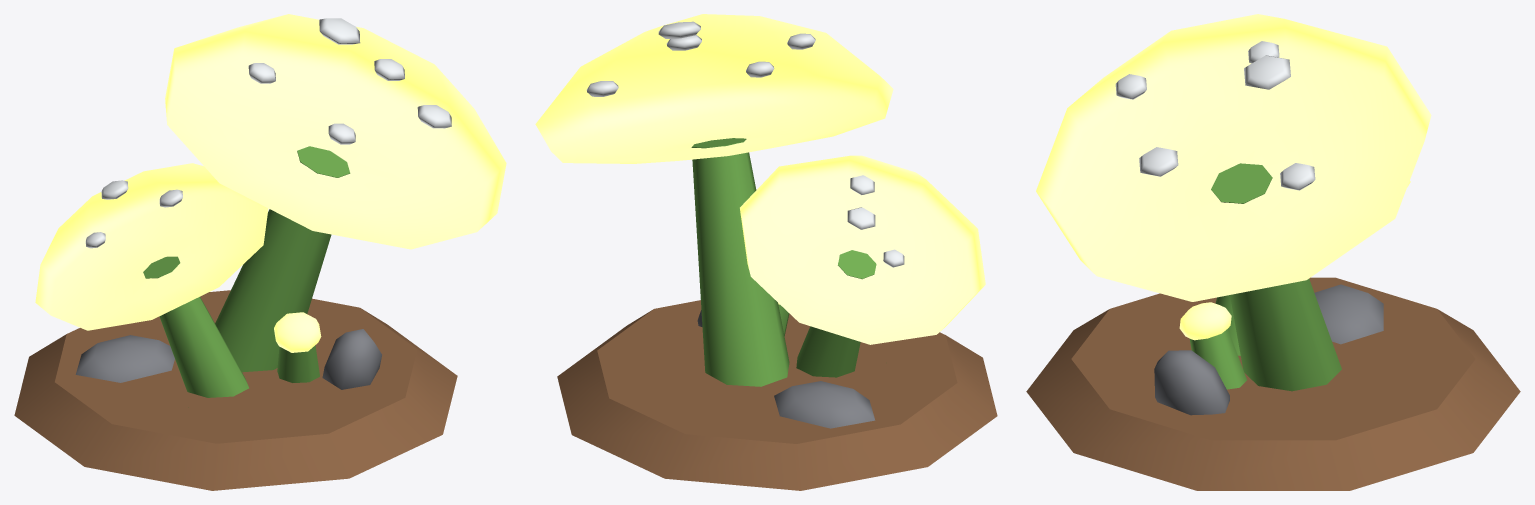
File: drop-cave-mushroom.glb
3 views of the same model, side by side, from view 1: azimuth 30°, elevation 25°; view 2: azimuth 150°, elevation 25°; view 3: azimuth 270°, elevation 25° (orthographic). The views are drawn at different scales.
Visible parts, largest first — view 1: Mesh_MainCap, Mesh_BaseMound, Mesh_SecCap, Mesh_MainStem, Mesh_SecStem, Mesh_Rock1, Mesh_Rock2, Mesh_BabyCap, Mesh_BabyStem, Mesh_MainSpot3, Mesh_MainSpot1, Mesh_MainSpot5; view 2: Mesh_BaseMound, Mesh_MainCap, Mesh_SecCap, Mesh_MainStem, Mesh_Rock1, Mesh_SecStem, Mesh_MainSpot3, Mesh_SecSpot3; view 3: Mesh_MainCap, Mesh_BaseMound, Mesh_MainStem, Mesh_Rock2, Mesh_Rock1, Mesh_BabyStem, Mesh_BabyCap, Mesh_MainSpot3, Mesh_MainSpot1, Mesh_MainSpot5, Mesh_MainSpot4.
Boxes of the visible parts, x1,y1,x2,y2 form: Mesh_MainCap: (165,14,506,249); Mesh_BaseMound: (14,290,457,490); Mesh_SecCap: (35,163,268,330); Mesh_MainStem: (215,146,350,372); Mesh_SecStem: (143,256,248,397); Mesh_Rock1: (75,335,174,382); Mesh_Rock2: (322,329,381,389); Mesh_BabyCap: (274,312,321,352); Mesh_BabyStem: (277,345,319,382); Mesh_MainSpot3: (319,18,360,44); Mesh_MainSpot1: (417,105,451,128); Mesh_MainSpot5: (374,59,404,80); Mesh_BaseMound: (557,300,997,490); Mesh_MainCap: (535,14,893,163); Mesh_SecCap: (740,155,985,344); Mesh_MainStem: (691,138,789,386); Mesh_Rock1: (774,381,875,428); Mesh_SecStem: (796,250,876,377); Mesh_MainSpot3: (658,21,700,38); Mesh_SecSpot3: (847,207,875,229); Mesh_MainCap: (1036,14,1431,301); Mesh_BaseMound: (1026,277,1520,490); Mesh_MainStem: (1211,163,1341,391); Mesh_Rock2: (1154,350,1229,415); Mesh_Rock1: (1314,284,1383,344); Mesh_BabyStem: (1189,329,1246,389); Mesh_BabyCap: (1179,302,1231,340); Mesh_MainSpot3: (1244,55,1290,89); Mesh_MainSpot1: (1139,147,1178,176); Mesh_MainSpot5: (1280,163,1315,190); Mesh_MainSpot4: (1115,74,1146,99).
Size of the model in its own units: 1.17 by 0.9757 by 1.1.
Materials: 2 (2 with a texture image).
